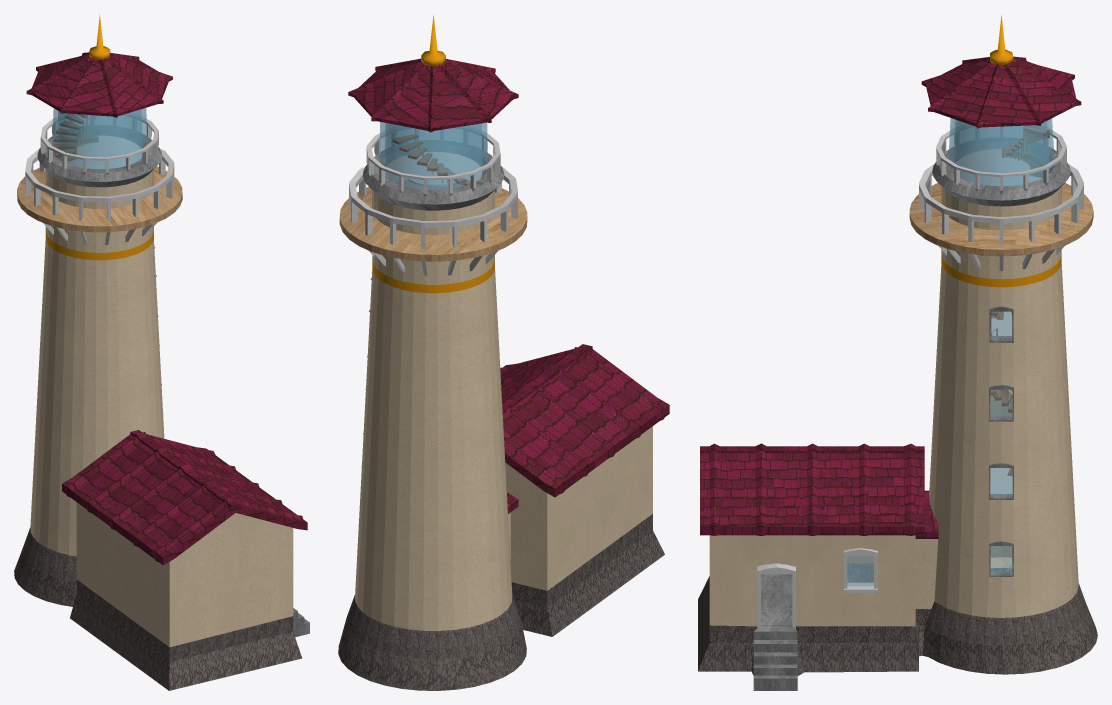
File: lighthouse.gltf
The picture shows the model from 3 angles, left to right: view 1: azimuth 30°, elevation 25°; view 2: azimuth 150°, elevation 25°; view 3: azimuth 270°, elevation 25°; orthographic projection. The views are drawn at different scales.
Parts seen in each view (by area): view 1: the changbang, glass, railings, floor ufourth, stairs.003; view 2: the changbang, glass, railings, floor ufourth, stairs.003; view 3: the changbang, glass, railings, window seals, floor ufourth, window frame, door frame, stairs.003.
Part boxes in pixels (bbox=[...]): the changbang: bbox=[14, 14, 309, 690]; glass: bbox=[52, 108, 147, 169]; railings: bbox=[25, 117, 174, 244]; floor ufourth: bbox=[67, 135, 141, 168]; stairs.003: bbox=[54, 114, 95, 160]; the changbang: bbox=[338, 15, 669, 690]; glass: bbox=[379, 122, 487, 189]; railings: bbox=[349, 131, 517, 275]; floor ufourth: bbox=[385, 152, 482, 186]; stairs.003: bbox=[392, 134, 470, 187]; the changbang: bbox=[698, 15, 1097, 690]; glass: bbox=[948, 118, 1054, 186]; railings: bbox=[919, 128, 1083, 270]; window seals: bbox=[989, 306, 1013, 576]; floor ufourth: bbox=[956, 149, 1041, 185]; window frame: bbox=[843, 548, 877, 592]; door frame: bbox=[757, 563, 795, 628]; stairs.003: bbox=[1002, 126, 1050, 160].
Size of what is drawn, in the model's own units: 3.72 by 11.61 by 6.75.
